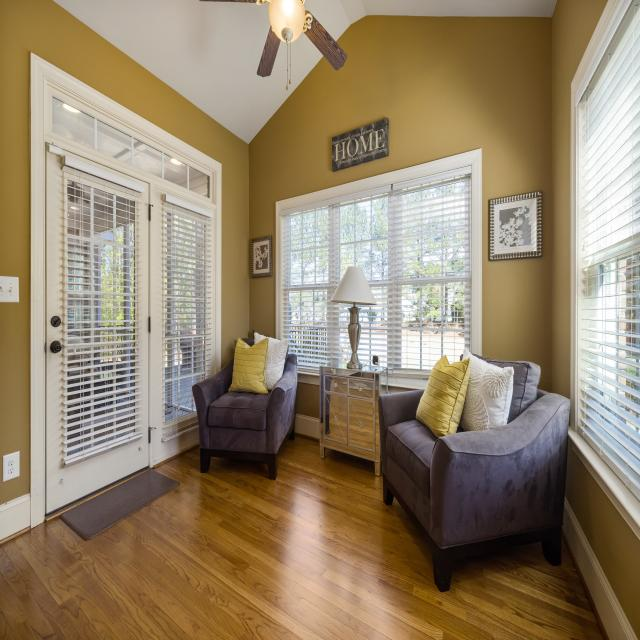floor: (0, 436, 610, 640)
wall: (249, 16, 552, 392), (551, 0, 608, 400), (561, 432, 640, 640), (490, 190, 542, 261), (332, 117, 389, 171)
